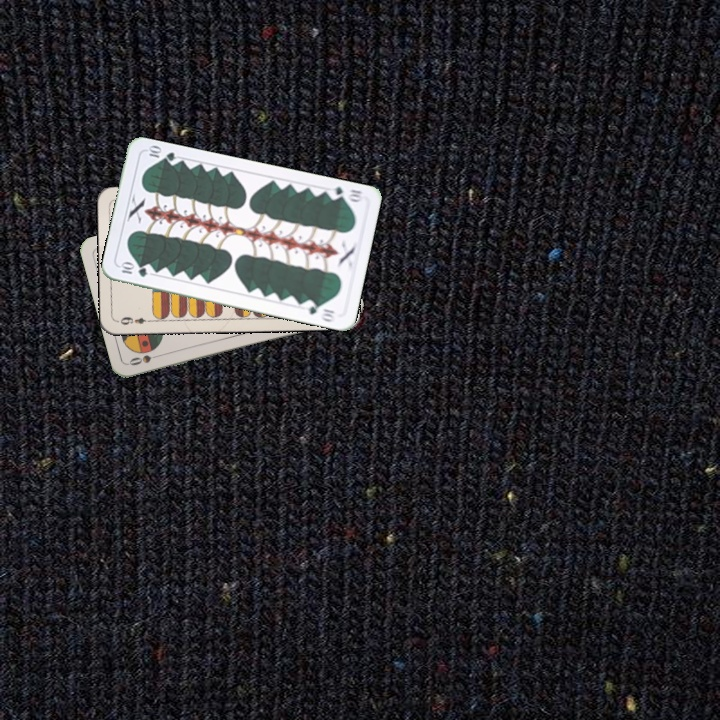E9: (116, 312, 155, 327)
G10: (324, 183, 365, 205), (116, 259, 150, 280)
SO: (125, 350, 166, 368)
